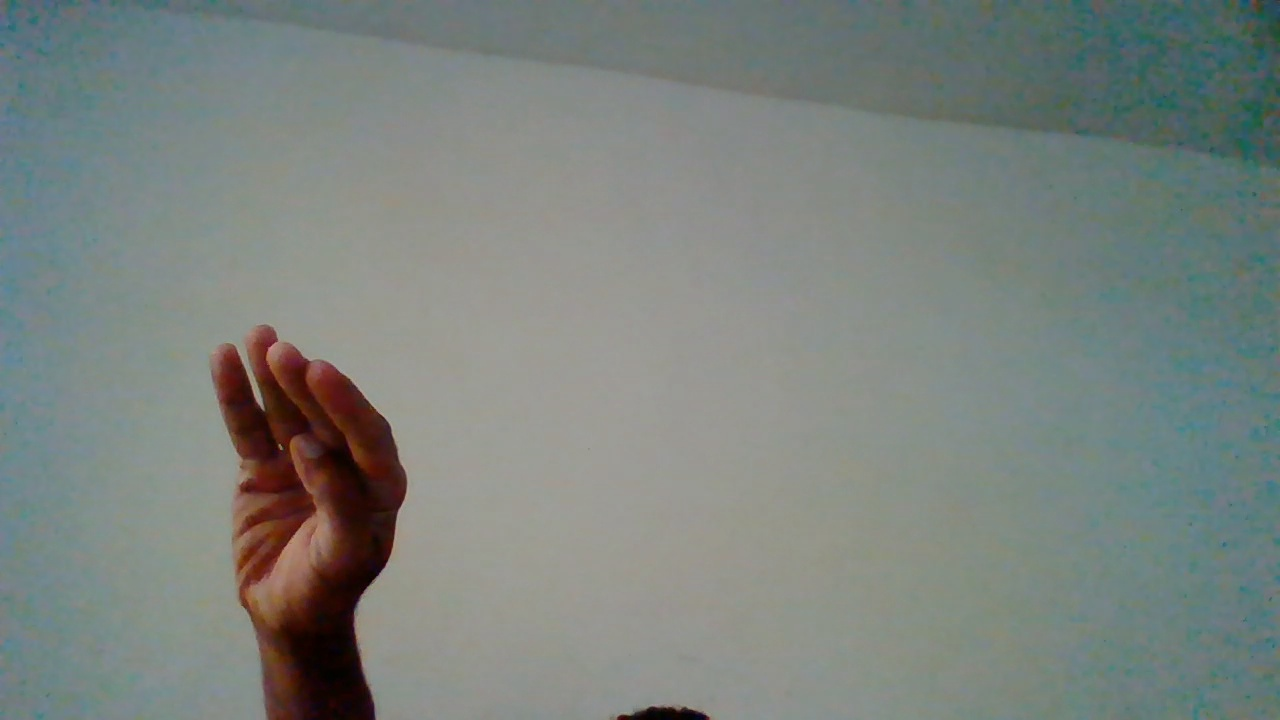me: (204, 327, 406, 706)
